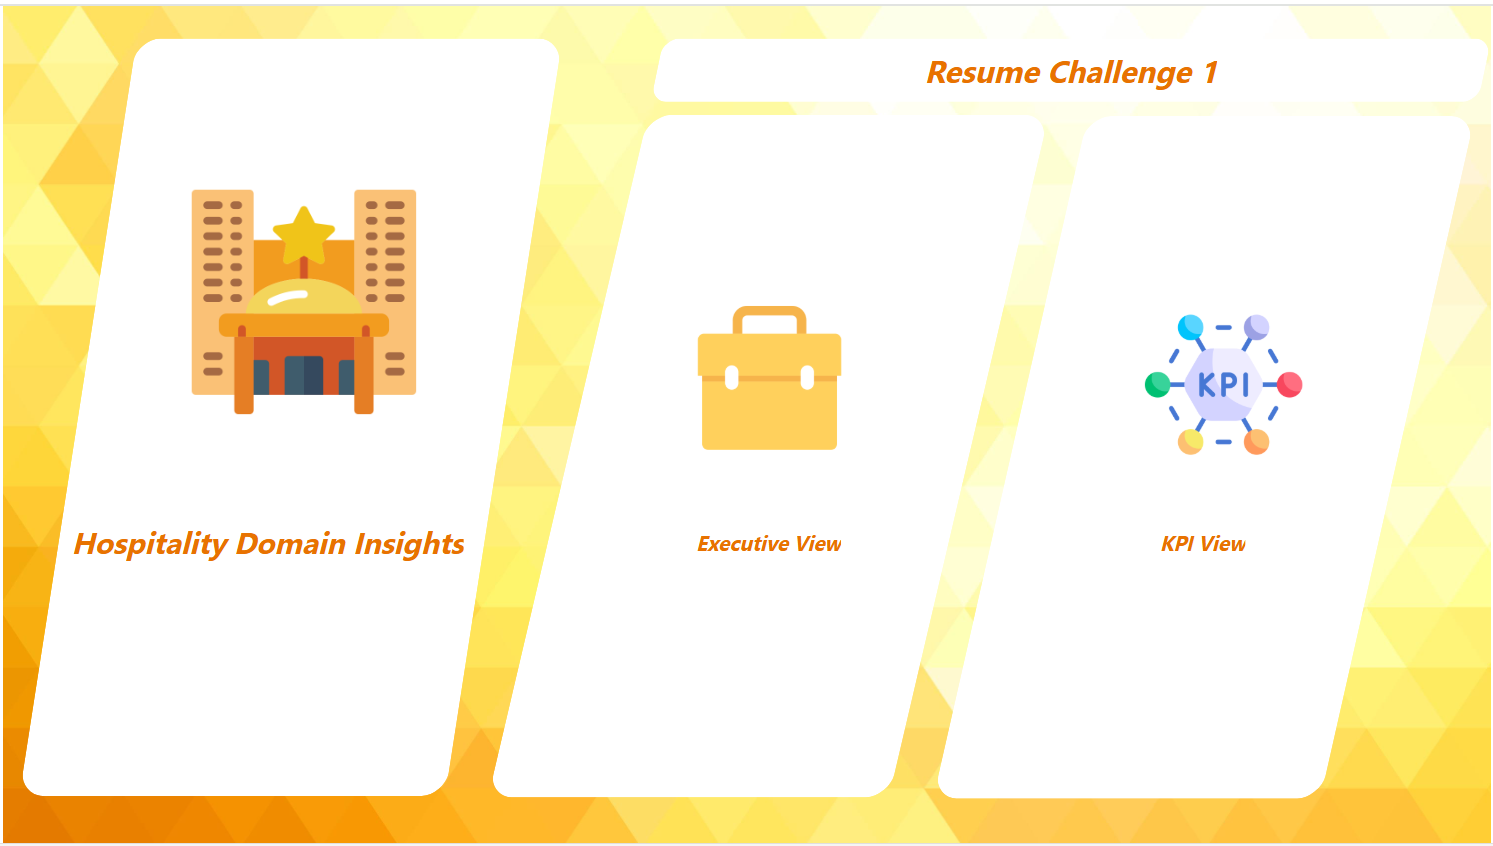

Layout of this report page (visuals, bound fields, positions):
{"tool":"powerbi","page":{"name":"Home Page","canvas":[1920,1080],"ordinal":0},"visuals":[{"type":"shape","box":[20.3,42.3,701.2,977.3],"z":0,"group":"g1"},{"type":"shape","box":[835.5,41.9,1084.9,82],"z":0},{"type":"shape","box":[626.2,139.5,723.8,880.8],"z":1000},{"type":"shape","box":[1200,141.3,699.4,880.8],"z":2000},{"type":"group","id":"g1","title":"Group 4","box":[0,42.3,721.5,977.3],"z":3000},{"type":"shape","box":[0,541.9,682.6,299.8],"z":4000,"group":"g1"},{"type":"shape","box":[755.2,542.4,465.7,300],"z":4000},{"type":"shape","box":[1266.3,542.4,563.4,300],"z":6000},{"type":"image","box":[839,382,300,195.3],"z":7000},{"type":"image","box":[238.8,232,299.8,299.8],"z":8000,"group":"g1"},{"type":"image","box":[1377.9,382,395.9,212.8],"z":8000}]}

Visuals, with their boxes in screenshot pixels (x1, y1, x2, y2), scaled from the page's 1920x1080 canvas onto the 1493x846 screenshot:
shape: crop(16, 33, 561, 799)
shape: crop(650, 33, 1492, 97)
shape: crop(487, 109, 1050, 799)
shape: crop(933, 111, 1477, 801)
"Group 4" group: crop(0, 33, 561, 799)
shape: crop(0, 424, 531, 659)
shape: crop(587, 425, 949, 660)
shape: crop(985, 425, 1423, 660)
image: crop(652, 299, 886, 452)
image: crop(186, 182, 419, 417)
image: crop(1071, 299, 1379, 466)
